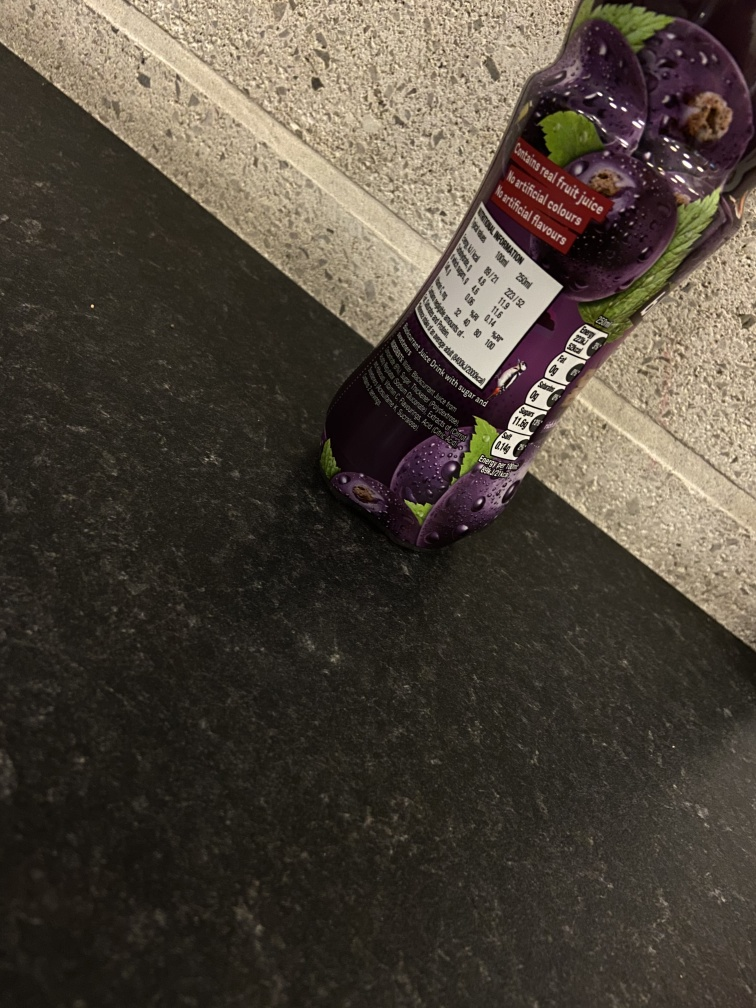bottle_purple: (315, 1, 752, 558)
